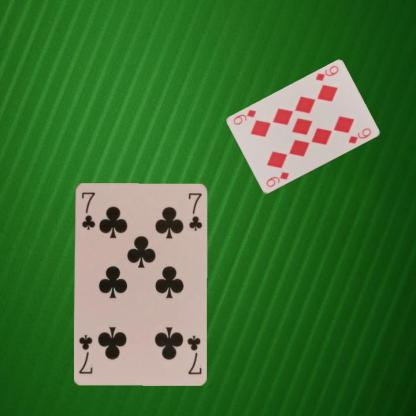7c: (184, 332, 203, 375), (78, 189, 96, 230)
9d: (312, 63, 340, 83), (263, 170, 290, 188)
